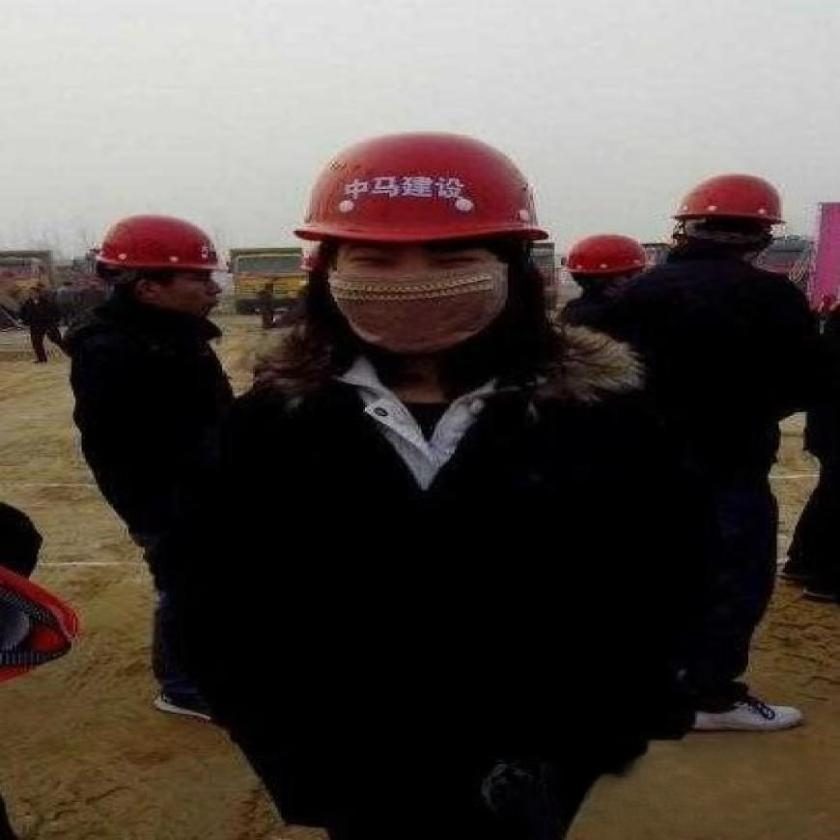Con_casco: (304, 138, 543, 367), (98, 189, 230, 331)
